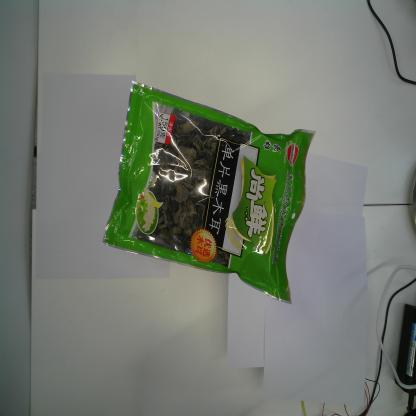Dried Food: (102, 81, 316, 305)
